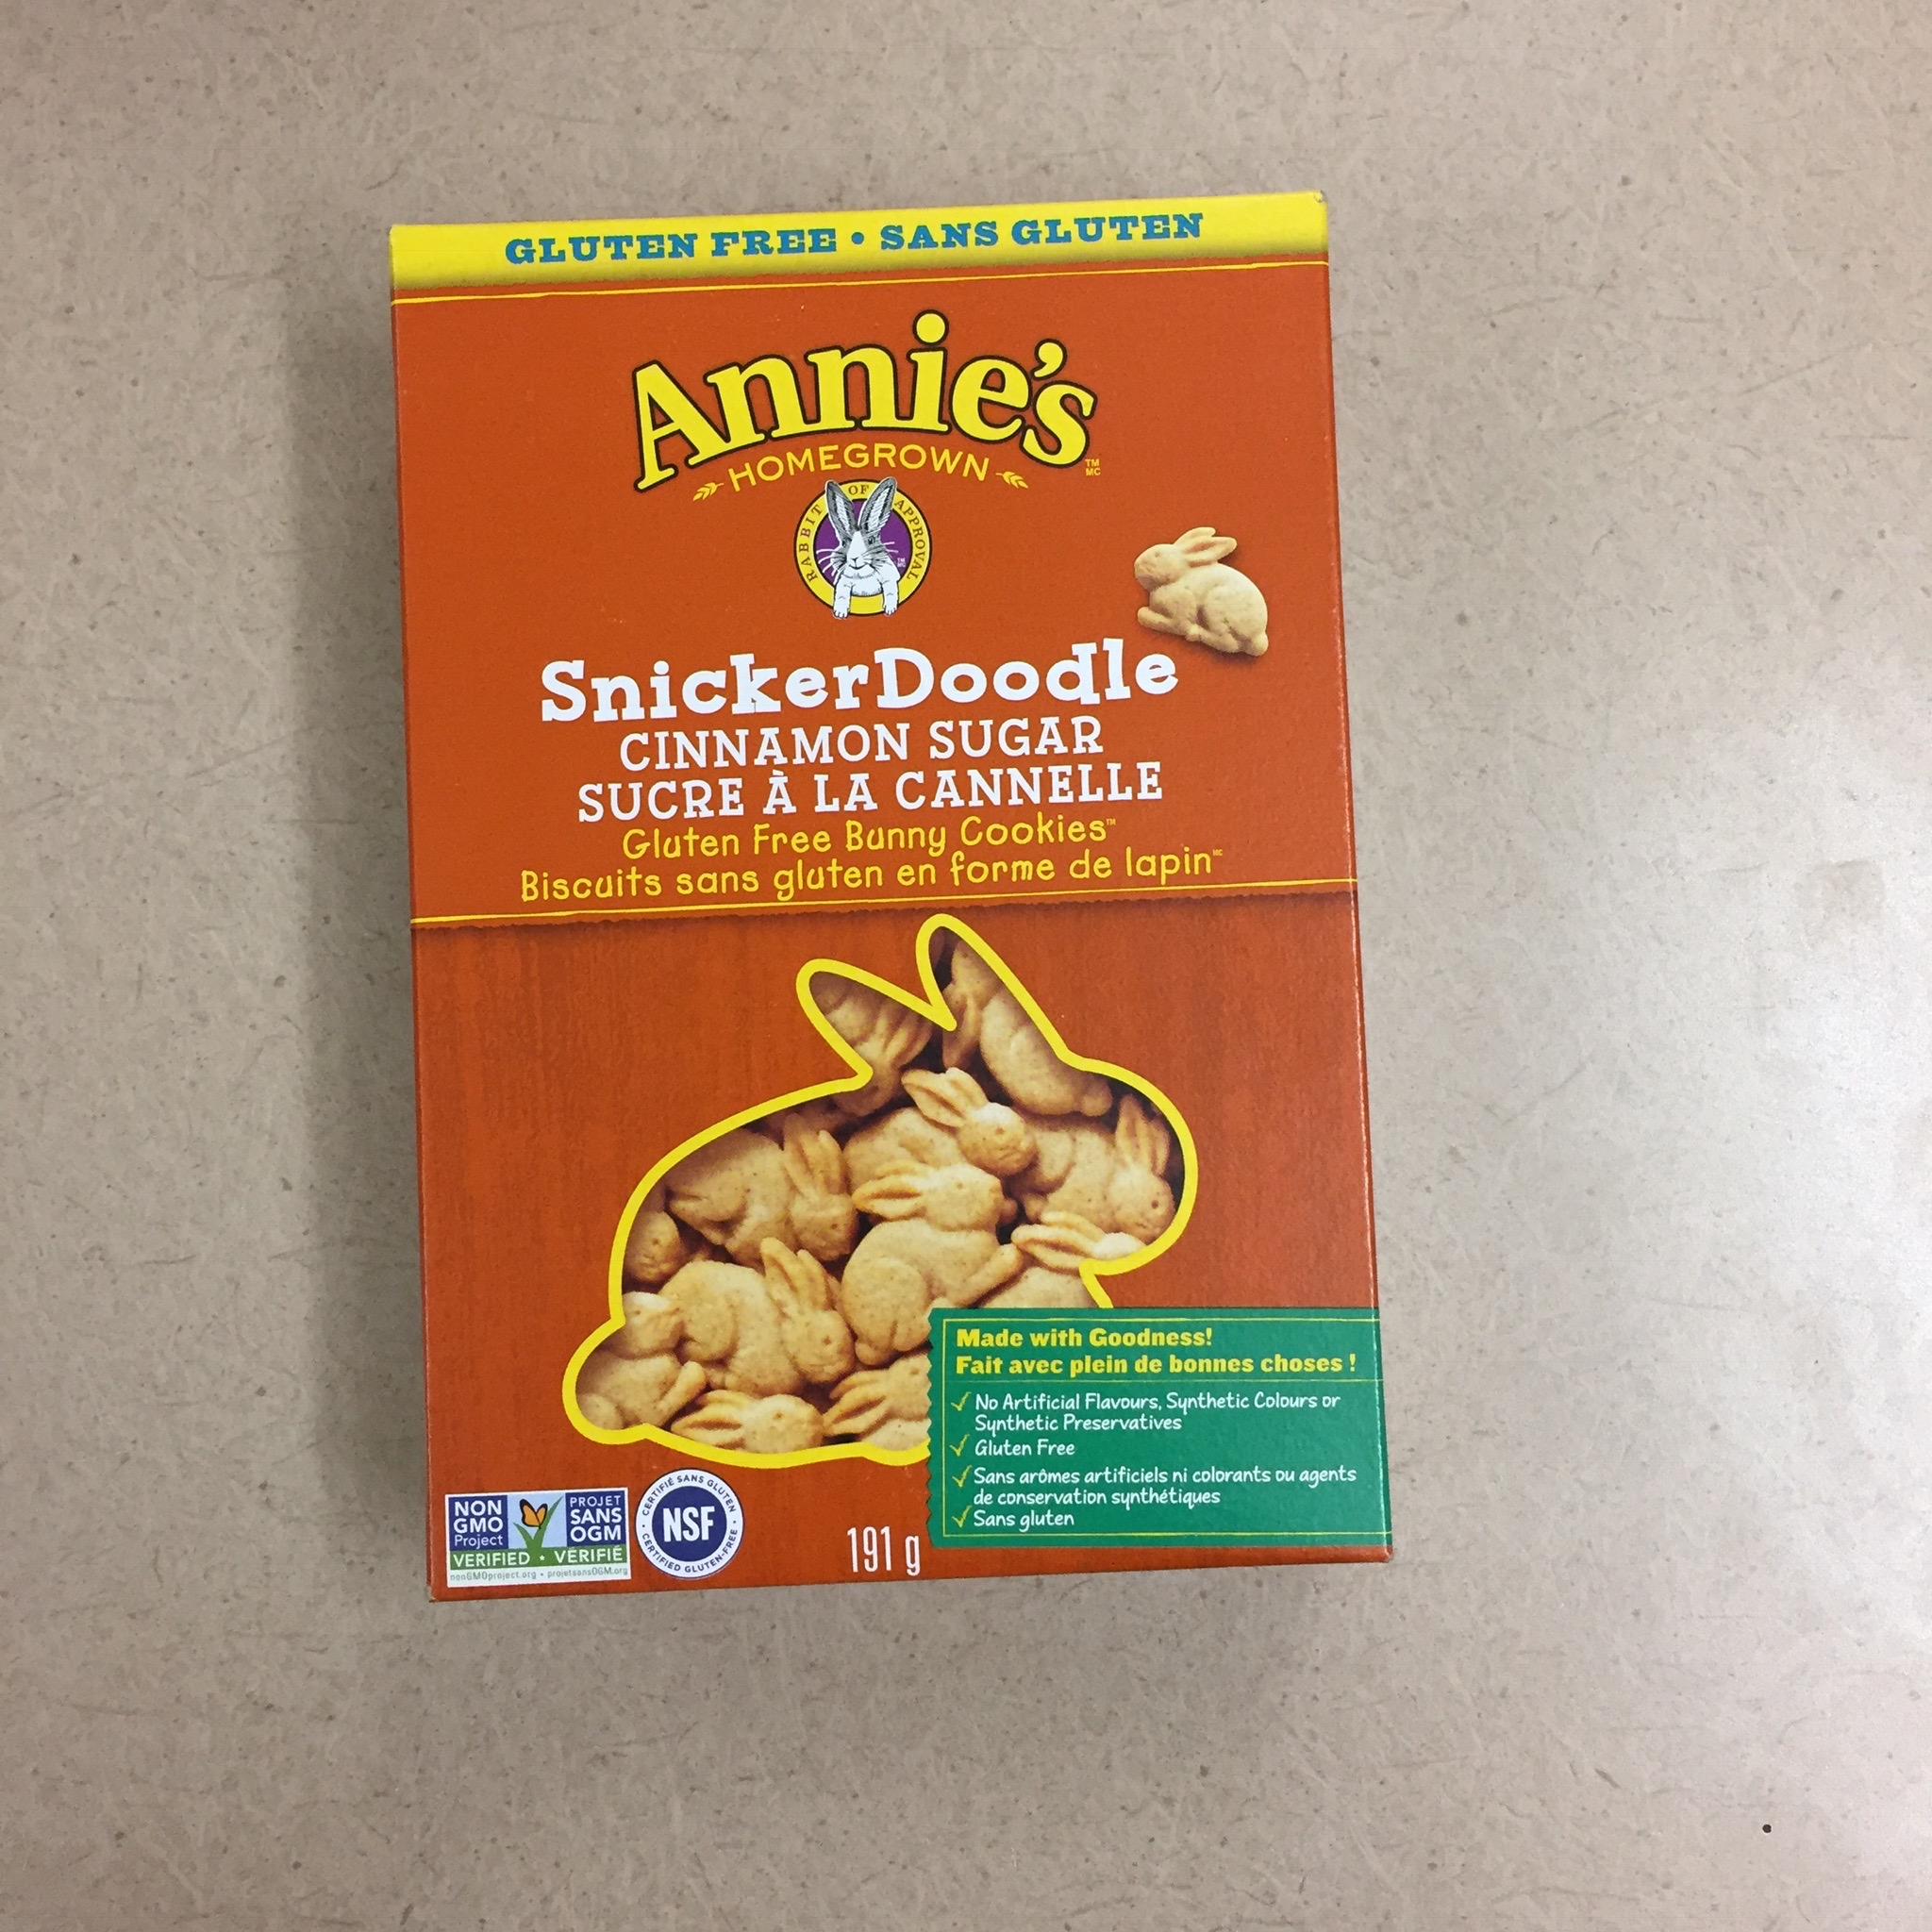annies_snickerdoodle_cinnamon_sugar: (382, 188, 1401, 1610)
